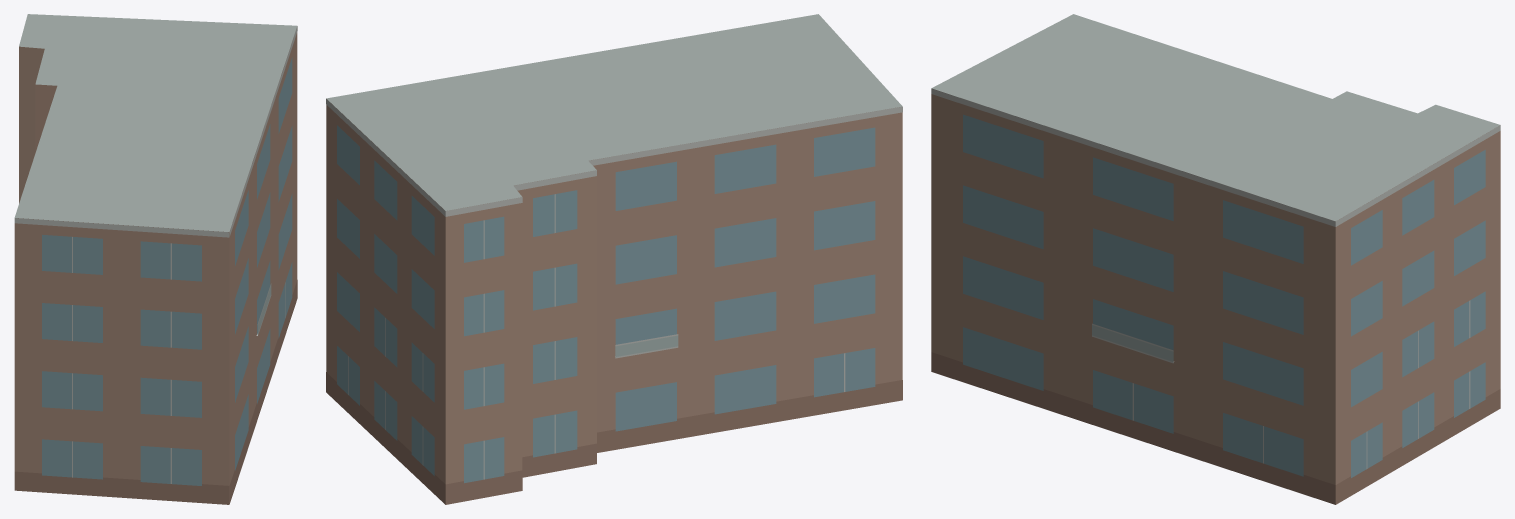
Rendered from survey-upis-32995838.glb.
3 renders of one model, left to right at view 1: azimuth 30°, elevation 25°; view 2: azimuth 150°, elevation 25°; view 3: azimuth 270°, elevation 25°, orthographic. The views are drawn at different scales.
Parts seen in each view (by area): view 1: survey-upis-32995838.tmp; view 2: survey-upis-32995838.tmp; view 3: survey-upis-32995838.tmp.
Part boxes in pixels (left/top/right/bottom): survey-upis-32995838.tmp: left=14, top=14, right=297, bottom=504; survey-upis-32995838.tmp: left=326, top=14, right=902, bottom=504; survey-upis-32995838.tmp: left=931, top=14, right=1500, bottom=504.
Bounding box in the file's own units: 19.16 × 12.2 × 22.22.
